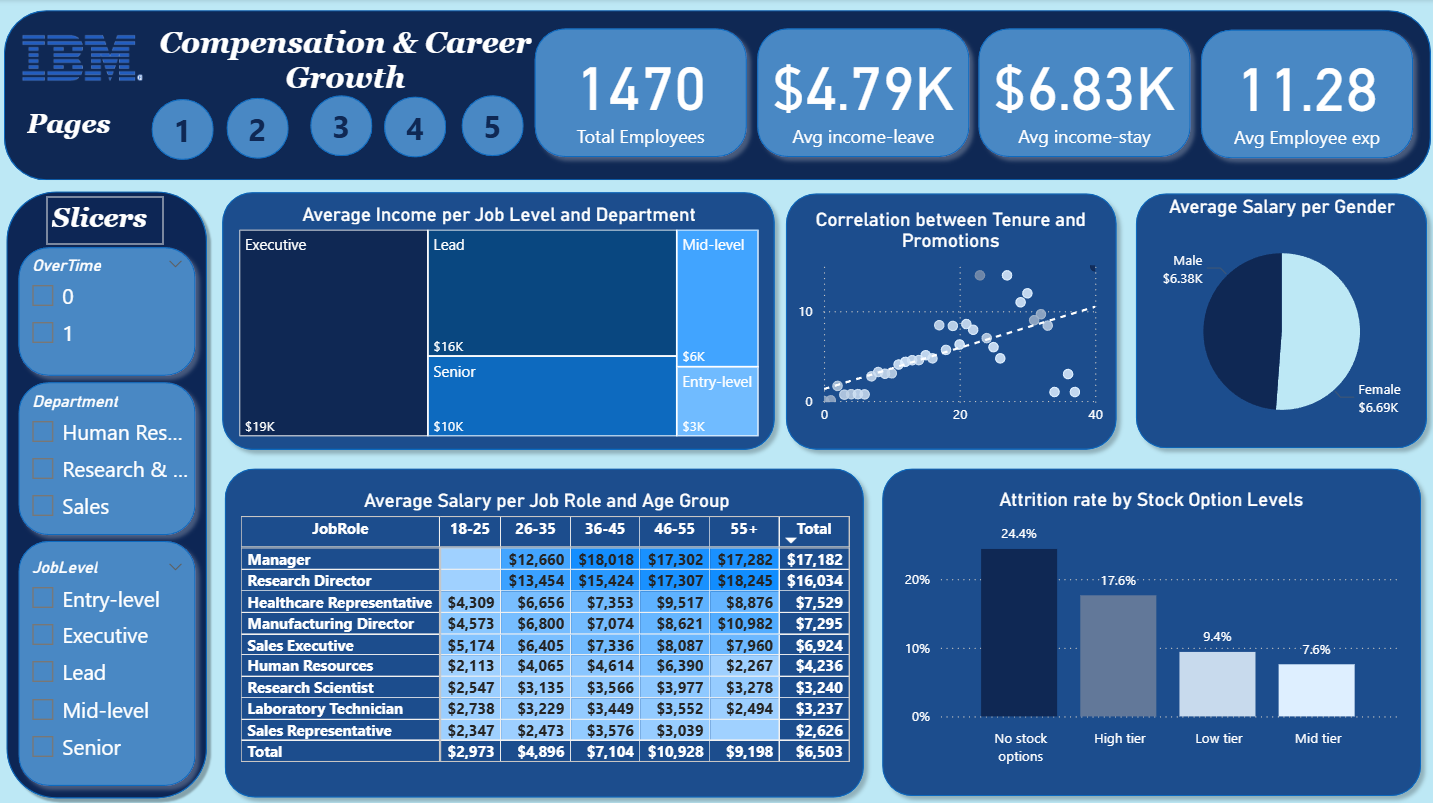

What the dashboard file says about the page in this screenshot:
{"tool":"powerbi","page":{"name":"Compensation & Career Growth","canvas":[1280,720],"ordinal":3},"visuals":[{"type":"shape","box":[4.1,9.5,1270.8,151.6],"z":0},{"type":"shape","box":[136.3,89.3,55.5,54.3],"z":0,"group":"g14"},{"type":"image","box":[15.7,9.7,117,83.2],"z":1000},{"type":"shape","box":[202.7,88.1,55.5,54.3],"z":1000,"group":"g14"},{"type":"shape","box":[468.1,18.1,205.8,131.4],"z":1500,"group":"g2"},{"type":"shape","box":[665.7,18.1,205.8,131.4],"z":1500,"group":"g4"},{"type":"shape","box":[863.4,18.1,205.8,131.4],"z":1500,"group":"g6"},{"type":"shape","box":[1061,19.5,205.8,131.4],"z":1500,"group":"g8"},{"type":"shape","box":[190.8,163.8,508.9,246.3],"z":1500,"group":"g9"},{"type":"shape","box":[692.9,165.1,311.3,245],"z":1500,"group":"g10"},{"type":"shape","box":[1004.2,165.1,276,243.8],"z":1500,"group":"g12"},{"type":"shape","box":[8.4,212.3,174.5,131.4],"z":1500,"group":"g3"},{"type":"shape","box":[8.4,333,174.5,153],"z":1500,"group":"g5"},{"type":"shape","box":[192.2,410.1,586,309.9],"z":1500,"group":"g11"},{"type":"shape","box":[778.2,410.1,496.7,308.6],"z":1500,"group":"g13"},{"type":"shape","box":[8.4,474.1,174.5,235],"z":1500,"group":"g7"},{"type":"textbox","box":[94.7,18.9,427.7,74.4],"z":2000},{"type":"shape","box":[277.5,85.7,55.5,54.3],"z":2000,"group":"g14"},{"type":"shape","box":[343.8,86.9,55.5,54.3],"z":3000,"group":"g14"},{"type":"textbox","box":[20.5,92.9,105,43.4],"z":3000},{"type":"shape","box":[412.6,85.7,55.5,54.3],"z":4000,"group":"g14"},{"type":"shape","box":[0,165.3,191.8,553.8],"z":4000},{"type":"pieChart","title":"Average Salary per Gender","fields":{"Y":["_measures.Avg Income"],"Category":["Dim_Employee.Gender"]},"box":[1009.7,175.6,265.7,224],"z":4000,"group":"g12"},{"type":"treemap","title":"Average Income per Job Level and Department ","fields":{"Group":["Dim_JobLevel.JobLevel","Dim_Department.Department"],"Values":["_measures.Avg Income"]},"box":[210.3,181.3,472.1,213.1],"z":4000,"group":"g9"},{"type":"pivotTable","title":"Average Salary per Job Role and Age Group","fields":{"Values":["_measures.Avg Income"],"Rows":["Dim_JobRole.JobRole"],"Columns":["Dim_Employee.AgeGroup"]},"box":[209.6,437.1,554.9,254.4],"z":4000,"group":"g11"},{"type":"group","id":"g1","title":"Group 3","box":[468.1,18.1,798.7,132.7],"z":5000},{"type":"card","fields":{"Values":["_measures.Total Employees"]},"box":[476.8,28.9,188.3,109.7],"z":5001,"group":"g2"},{"type":"card","fields":{"Values":["_measures.Avg income-leave"]},"box":[674.4,28.9,188.3,109.7],"z":5001,"group":"g4"},{"type":"card","fields":{"Values":["_measures.Avg income-stay"]},"box":[872.1,28.9,188.3,109.7],"z":5001,"group":"g6"},{"type":"card","fields":{"Values":["_measures.Avg Employee exp"]},"box":[1069.7,30.3,188.3,109.7],"z":5001,"group":"g8"},{"type":"slicer","fields":{"Values":["Fact_Emp_Metrics.OverTime"]},"box":[15.8,223.1,159.7,109.7],"z":5001,"group":"g3"},{"type":"slicer","fields":{"Values":["Dim_Department.Department"]},"box":[15.8,345.6,159.7,127.8],"z":5001,"group":"g5"},{"type":"slicer","fields":{"Values":["Dim_JobLevel.JobLevel"]},"box":[15.8,493.5,159.7,196.2],"z":5001,"group":"g7"},{"type":"group","id":"g2","title":"Group 2","box":[468.1,18.1,205.8,131.4],"z":6000,"group":"g1"},{"type":"group","id":"g3","title":"Group 2","box":[8.4,212.3,174.9,131.5],"z":6000},{"type":"group","id":"g4","title":"Group 2","box":[665.7,18.1,205.8,131.4],"z":7000,"group":"g1"},{"type":"group","id":"g5","title":"Group 2","box":[8.4,333,174.9,153.2],"z":7000},{"type":"group","id":"g6","title":"Group 2","box":[863.4,18.1,205.8,131.4],"z":8000,"group":"g1"},{"type":"group","id":"g7","title":"Group 2","box":[8.4,474.1,174.9,235.3],"z":8000},{"type":"group","id":"g8","title":"Group 2","box":[1061,19.5,205.8,131.4],"z":9000,"group":"g1"},{"type":"textbox","box":[42.2,176.1,105,43.4],"z":9000},{"type":"group","id":"g9","title":"Group 1","box":[190.8,163.8,508.9,246.3],"z":11000},{"type":"group","id":"g10","title":"Group 4","box":[692.9,165.1,311.3,245],"z":12000},{"type":"group","id":"g11","title":"Group 1","box":[192.2,410.1,586,309.9],"z":13000},{"type":"scatterChart","title":"Correlation between Tenure and Promotions","fields":{"X":["Fact_Emp_Metrics.YearsAtCompany"],"Y":["Avg(Fact_Emp_Metrics.YearsSinceLastPromotion)"]},"box":[707.8,185.8,281.5,202.3],"z":13001,"group":"g10"},{"type":"clusteredColumnChart","title":"Attrition rate by Stock Option Levels","fields":{"Category":["Dim_StockOptionLevel.StockOptionLevel"],"Y":["_measures.Attrition rate"]},"box":[802,436.2,449.3,254.8],"z":13001,"group":"g13"},{"type":"group","id":"g12","title":"Group 1","box":[1004.2,165.1,276.1,245],"z":14000},{"type":"group","id":"g13","title":"Group 4","box":[778.2,410.1,496.7,308.6],"z":15000},{"type":"group","id":"g14","title":"Group 5","box":[136.3,85.7,331.8,57.9],"z":15001}]}

Visuals, with their boxes in screenshot pixels (x1, y1, x2, y2), scaled from the page's 1280x720 canvas onto the 1433x803 screenshot:
shape: <box>5,11,1427,180</box>
shape: <box>153,100,215,160</box>
image: <box>18,11,149,104</box>
shape: <box>227,98,289,159</box>
shape: <box>524,20,754,167</box>
shape: <box>745,20,976,167</box>
shape: <box>967,20,1197,167</box>
shape: <box>1188,22,1418,168</box>
shape: <box>214,183,783,457</box>
shape: <box>776,184,1124,457</box>
shape: <box>1124,184,1432,456</box>
shape: <box>9,237,205,383</box>
shape: <box>9,371,205,542</box>
shape: <box>215,457,871,802</box>
shape: <box>871,457,1427,802</box>
shape: <box>9,529,205,791</box>
textbox: <box>106,21,585,104</box>
shape: <box>311,96,373,156</box>
shape: <box>385,97,447,157</box>
textbox: <box>23,104,141,152</box>
shape: <box>462,96,524,156</box>
shape: <box>0,184,215,802</box>
"Average Salary per Gender" pieChart: <box>1130,196,1428,446</box>
"Average Income per Job Level and Department " treemap: <box>235,202,764,440</box>
"Average Salary per Job Role and Age Group" pivotTable: <box>235,487,856,771</box>
"Group 3" group: <box>524,20,1418,168</box>
card - _measures.Total Employees: <box>534,32,745,155</box>
card - _measures.Avg income-leave: <box>755,32,966,155</box>
card - _measures.Avg income-stay: <box>976,32,1187,155</box>
card - _measures.Avg Employee exp: <box>1198,34,1408,156</box>
slicer - Fact_Emp_Metrics.OverTime: <box>18,249,196,371</box>
slicer - Dim_Department.Department: <box>18,385,196,528</box>
slicer - Dim_JobLevel.JobLevel: <box>18,550,196,769</box>
"Group 2" group: <box>524,20,754,167</box>
"Group 2" group: <box>9,237,205,383</box>
"Group 2" group: <box>745,20,976,167</box>
"Group 2" group: <box>9,371,205,542</box>
"Group 2" group: <box>967,20,1197,167</box>
"Group 2" group: <box>9,529,205,791</box>
"Group 2" group: <box>1188,22,1418,168</box>
textbox: <box>47,196,165,245</box>
"Group 1" group: <box>214,183,783,457</box>
"Group 4" group: <box>776,184,1124,457</box>
"Group 1" group: <box>215,457,871,802</box>
"Correlation between Tenure and Promotions" scatterChart: <box>792,207,1108,433</box>
"Attrition rate by Stock Option Levels" clusteredColumnChart: <box>898,486,1401,771</box>
"Group 1" group: <box>1124,184,1432,457</box>
"Group 4" group: <box>871,457,1427,802</box>
"Group 5" group: <box>153,96,524,160</box>
